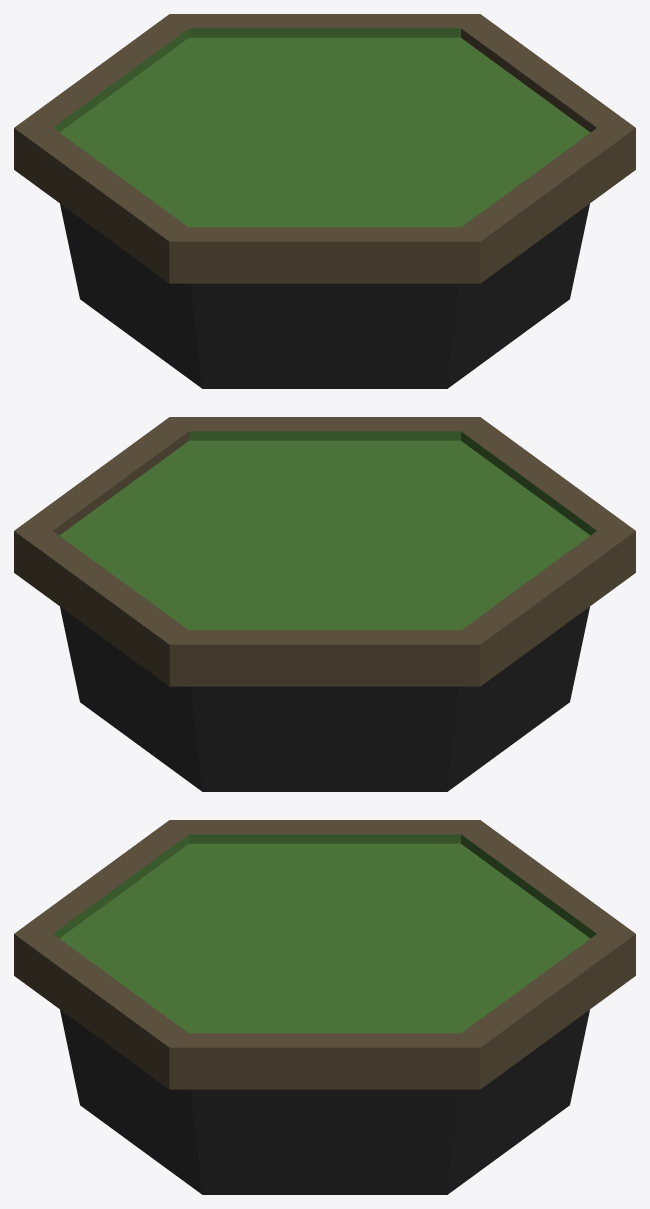
The model's file is MesaHexadecimal.glb.
3 views of the same model, one above another, from view 1: azimuth 30°, elevation 25°; view 2: azimuth 150°, elevation 25°; view 3: azimuth 270°, elevation 25° (orthographic).
Parts seen in each view (by area): view 1: Cylinder; view 2: Cylinder; view 3: Cylinder.
Part boxes in pixels (left/top/right/bottom): Cylinder: left=14, top=14, right=635, bottom=388; Cylinder: left=14, top=417, right=635, bottom=791; Cylinder: left=14, top=820, right=635, bottom=1194.
Size of the model in its own units: 2.56 by 0.9 by 2.96.
